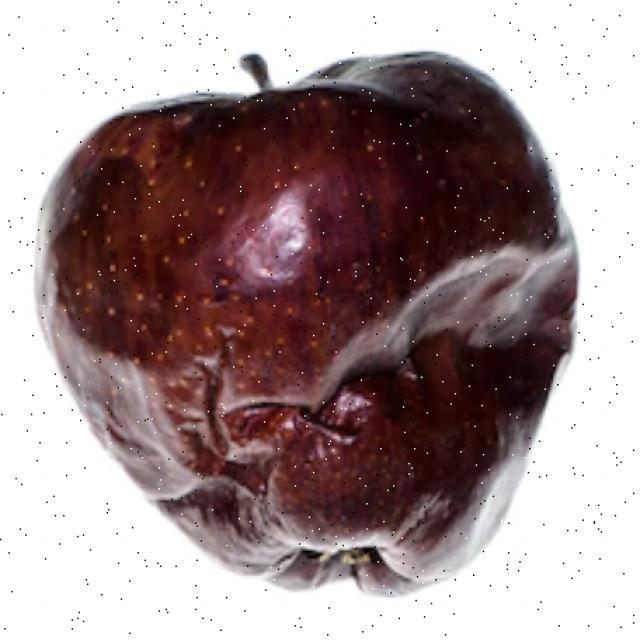Rotten: (67, 60, 588, 572)
